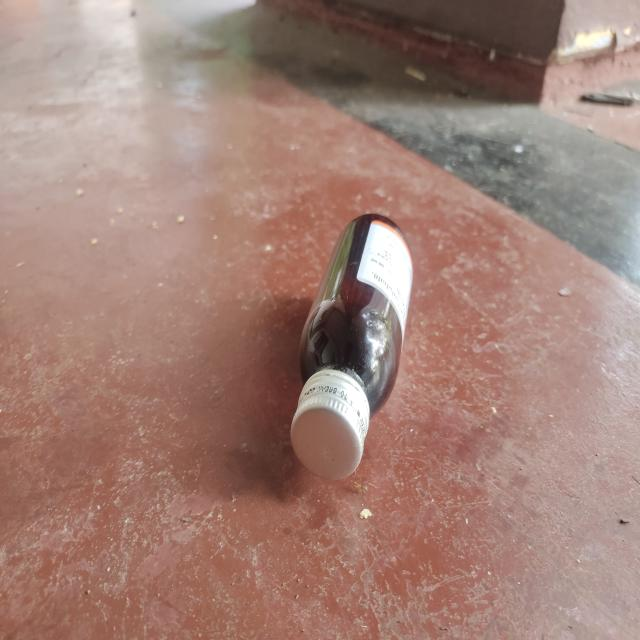plastic: (288, 211, 416, 482)
